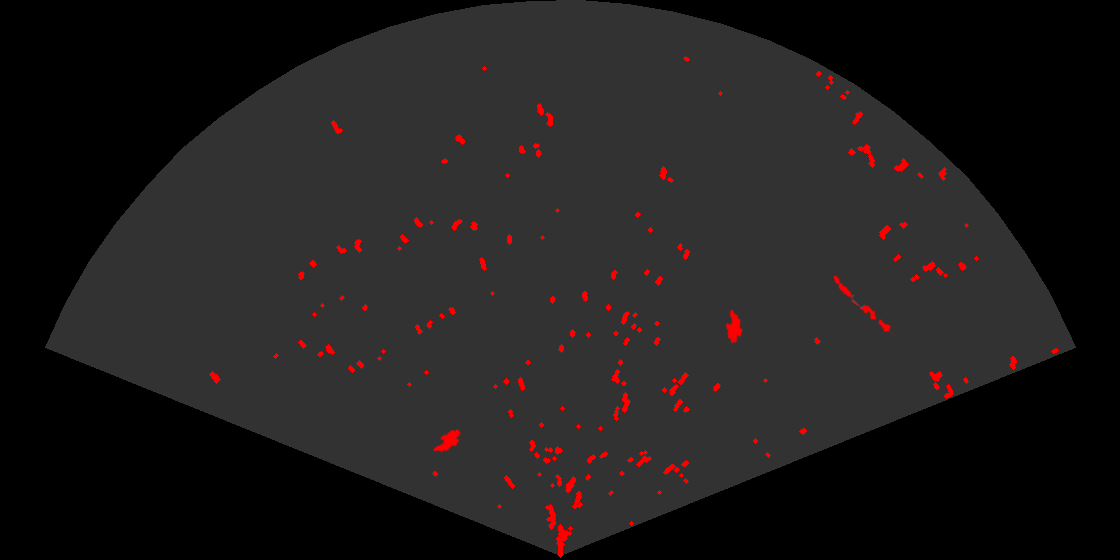AUV: (432, 428, 462, 454), (724, 308, 744, 345)
chain: (832, 274, 896, 339)
